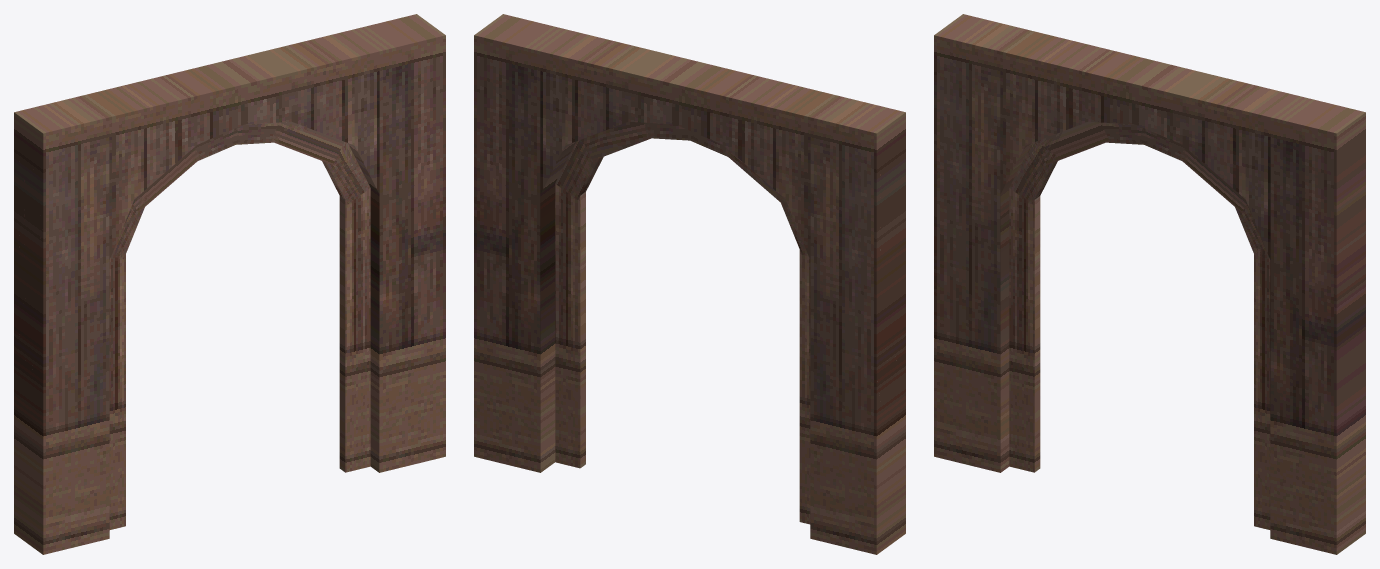
File: archWood-thick.glb
3 renders of one model, left to right at view 1: azimuth 30°, elevation 25°; view 2: azimuth 150°, elevation 25°; view 3: azimuth 330°, elevation 25°, orthographic.
Parts seen in each view (by area): view 1: archWood.001; view 2: archWood.001; view 3: archWood.001.
Part boxes in pixels (x1,y1,x2,y2): archWood.001: [14, 14, 445, 554]; archWood.001: [474, 14, 905, 554]; archWood.001: [934, 14, 1365, 554].
Size of the model in its own units: 4 by 4 by 0.5.
Materials: 1 (1 with a texture image).
